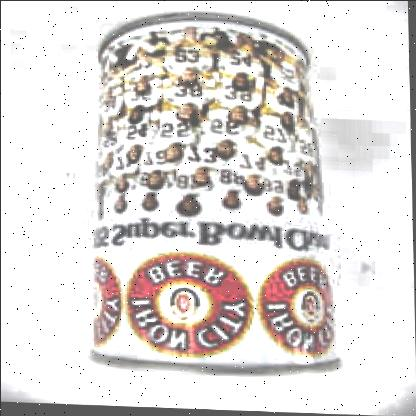Can: (77, 7, 344, 383)
